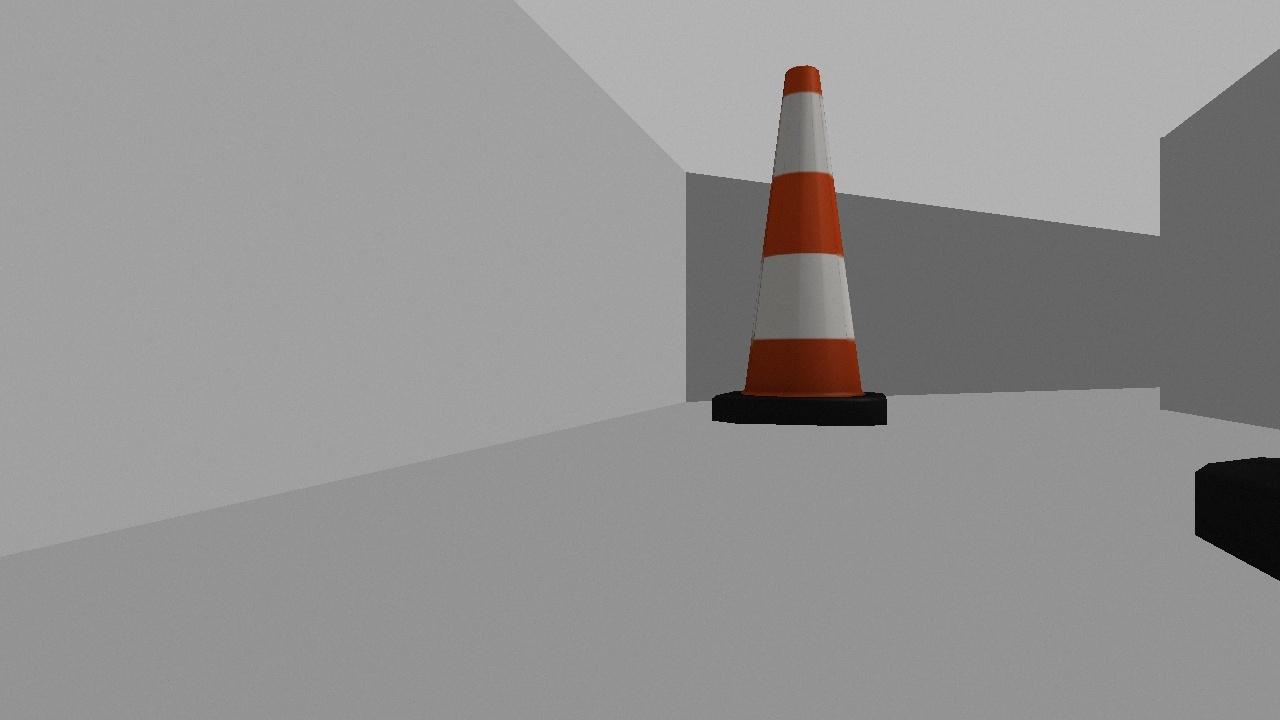cone_barrel: (697, 52, 906, 434)
